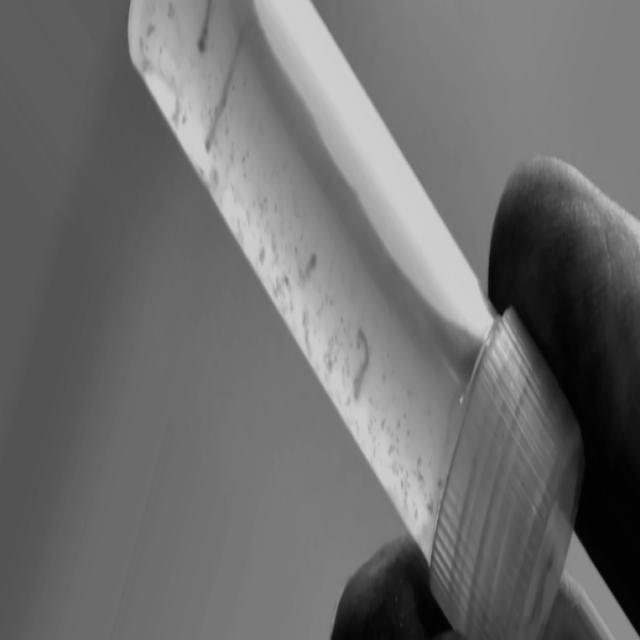larvas: (205, 54, 239, 152), (350, 326, 370, 398), (198, 0, 212, 54)
